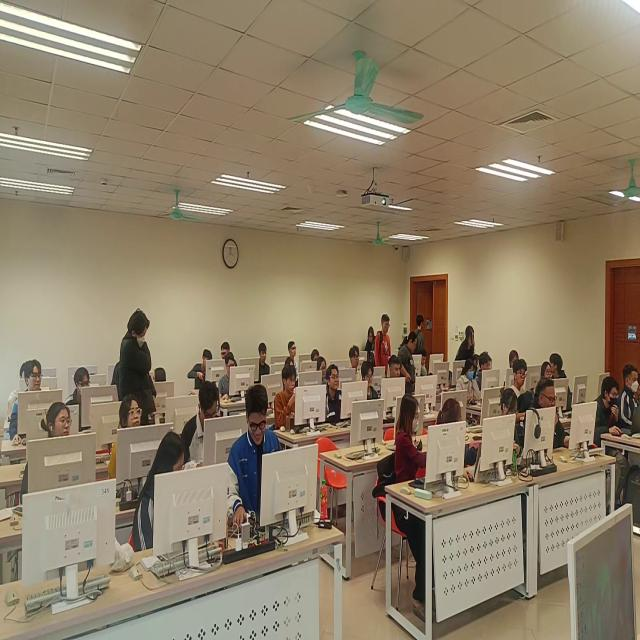raise_head: (26, 404, 79, 505), (110, 397, 154, 492), (10, 361, 53, 449), (276, 367, 309, 434), (324, 364, 348, 426), (256, 344, 276, 380), (347, 342, 365, 382), (510, 360, 529, 396), (317, 356, 333, 385), (541, 363, 557, 385), (287, 339, 302, 362)
stand: (118, 313, 158, 432), (399, 329, 418, 400), (453, 326, 476, 381), (376, 313, 393, 386)
using_computer: (228, 386, 283, 538), (183, 383, 230, 473), (528, 380, 582, 457), (592, 381, 639, 462), (500, 389, 538, 479), (67, 366, 104, 431), (458, 362, 490, 412), (359, 360, 389, 411), (387, 357, 423, 399), (189, 348, 220, 396), (220, 356, 245, 406), (620, 368, 640, 429), (418, 351, 445, 388), (480, 353, 505, 391)
